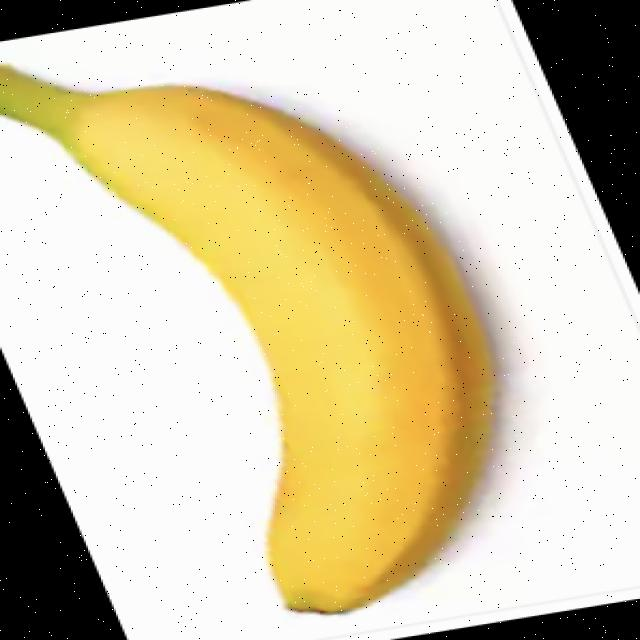god quality banana: (2, 66, 492, 614)
